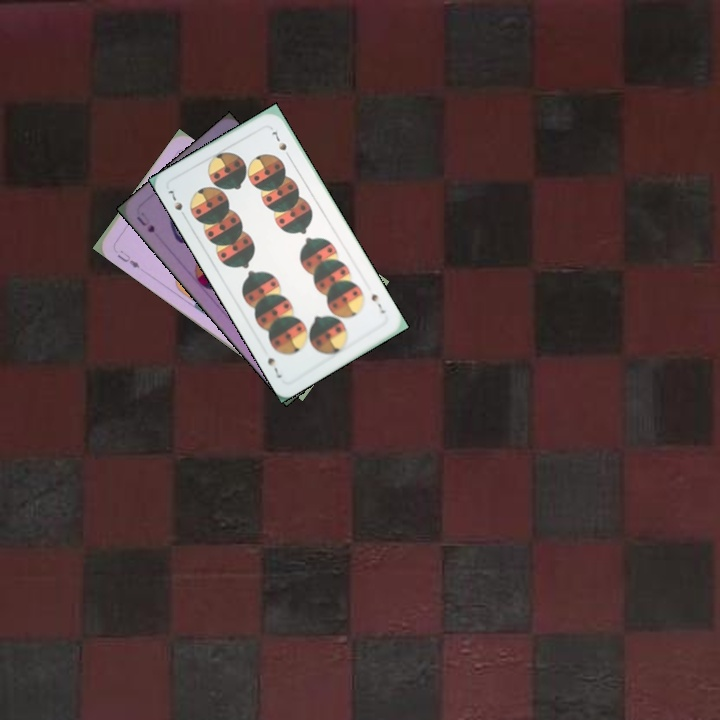EU: (113, 246, 142, 271)
S7: (164, 186, 189, 222), (367, 290, 388, 316)
SU: (132, 208, 157, 235)
